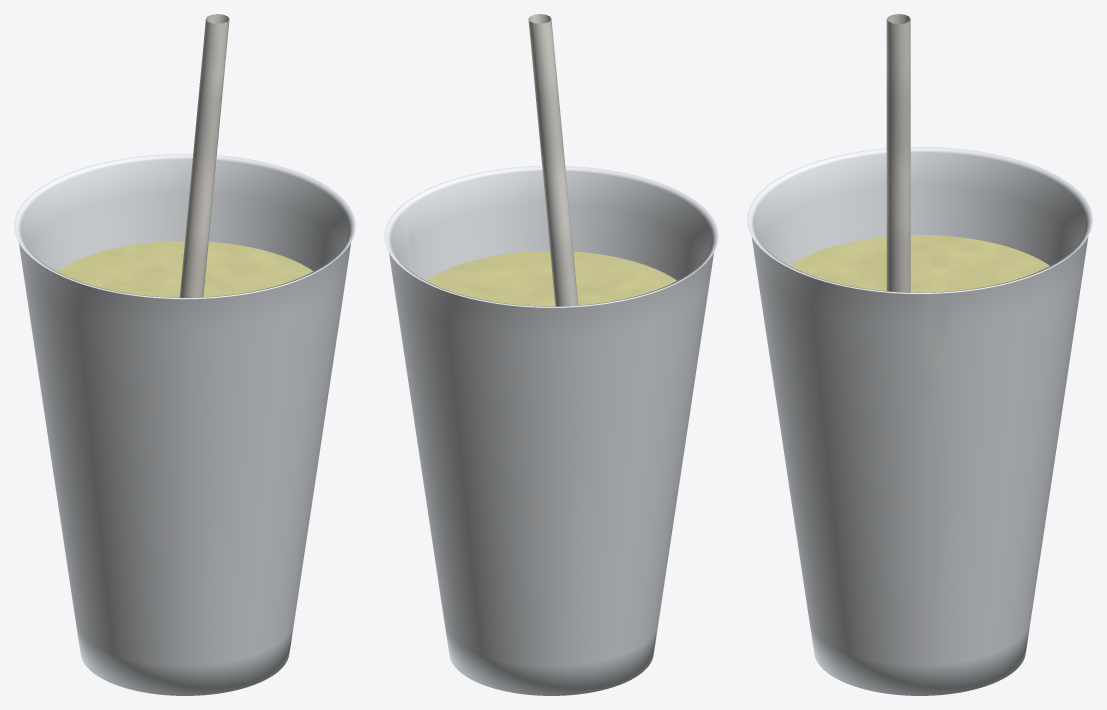
The model's file is detox.glb.
3 views of the same model, side by side, from view 1: azimuth 30°, elevation 25°; view 2: azimuth 150°, elevation 25°; view 3: azimuth 270°, elevation 25° (orthographic). The views are drawn at different scales.
Parts seen in each view (by area): view 1: clear, gloss, satin; view 2: clear, gloss, satin; view 3: clear, gloss, satin.
Boxes of the visible parts, <box> form: clear: <box>14,153,355,695</box>; gloss: <box>56,241,313,297</box>; satin: <box>179,14,229,297</box>; clear: <box>384,166,718,695</box>; gloss: <box>426,251,676,306</box>; satin: <box>528,14,578,306</box>; clear: <box>747,147,1092,695</box>; gloss: <box>790,235,1049,292</box>; satin: <box>886,14,910,292</box>.
Size of the model in its own units: 0.098 by 0.201 by 0.098.
Materials: 3 (3 with a texture image).
